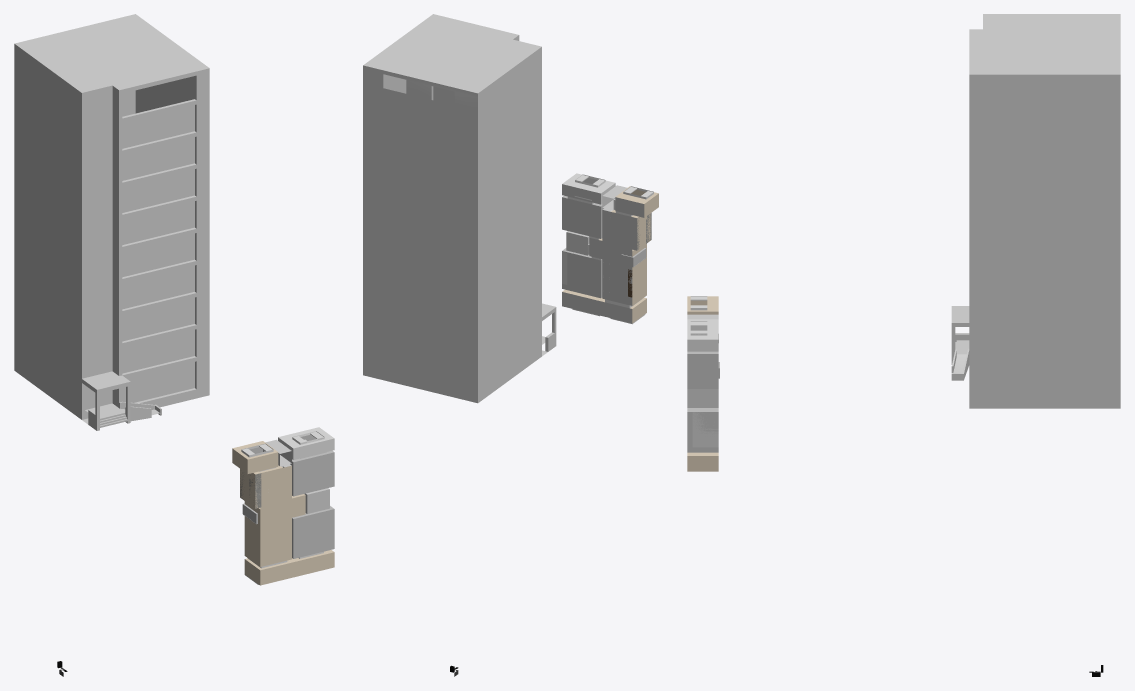
Rendered from Apart.fbx.
3 renders of one model, left to right at view 1: azimuth 30°, elevation 25°; view 2: azimuth 150°, elevation 25°; view 3: azimuth 270°, elevation 25°, orthographic. The views are drawn at different scales.
Parts seen in each view (by area): view 1: Apart_Outside, Main_Wall, MyRoom_Wall, Balcony_Wall, SisRoom_Wall, SisRoom_Balcony_Wall, Kitchen_Balcony_Wall, Bathroom_Wall; view 2: Apart_Outside, Main_Wall, MyRoom_Wall, Balcony_Wall, SisRoom_Wall, SisRoom_Balcony_Wall, Kitchen_Balcony_Wall, Bathroom_Wall; view 3: Apart_Outside, SisRoom_Wall, MyRoom_Wall, SisRoom_Balcony_Wall, MyRoom_Closet, Balcony_Wall.
Part boxes in pixels (left/top/right/bottom): Apart_Outside: left=14, top=14, right=209, bottom=430; Main_Wall: left=240, top=465, right=305, bottom=566; MyRoom_Wall: left=292, top=506, right=334, bottom=558; Balcony_Wall: left=244, top=550, right=334, bottom=585; SisRoom_Wall: left=290, top=450, right=334, bottom=496; SisRoom_Balcony_Wall: left=278, top=427, right=334, bottom=459; Kitchen_Balcony_Wall: left=232, top=441, right=278, bottom=473; Bathroom_Wall: left=304, top=488, right=329, bottom=513; Apart_Outside: left=363, top=14, right=556, bottom=403; Main_Wall: left=589, top=210, right=650, bottom=305; MyRoom_Wall: left=562, top=248, right=602, bottom=298; Balcony_Wall: left=562, top=289, right=646, bottom=323; SisRoom_Wall: left=562, top=195, right=603, bottom=238; SisRoom_Balcony_Wall: left=562, top=173, right=615, bottom=204; Kitchen_Balcony_Wall: left=615, top=186, right=658, bottom=217; Bathroom_Wall: left=566, top=231, right=589, bottom=255; Apart_Outside: left=951, top=14, right=1120, bottom=408; SisRoom_Wall: left=687, top=351, right=718, bottom=388; MyRoom_Wall: left=687, top=408, right=718, bottom=452; SisRoom_Balcony_Wall: left=687, top=319, right=718, bottom=351; MyRoom_Closet: left=692, top=412, right=718, bottom=447; Balcony_Wall: left=687, top=452, right=718, bottom=471.
Bounding box in the file's own units: 13.2 × 65.67 × 39.98.
